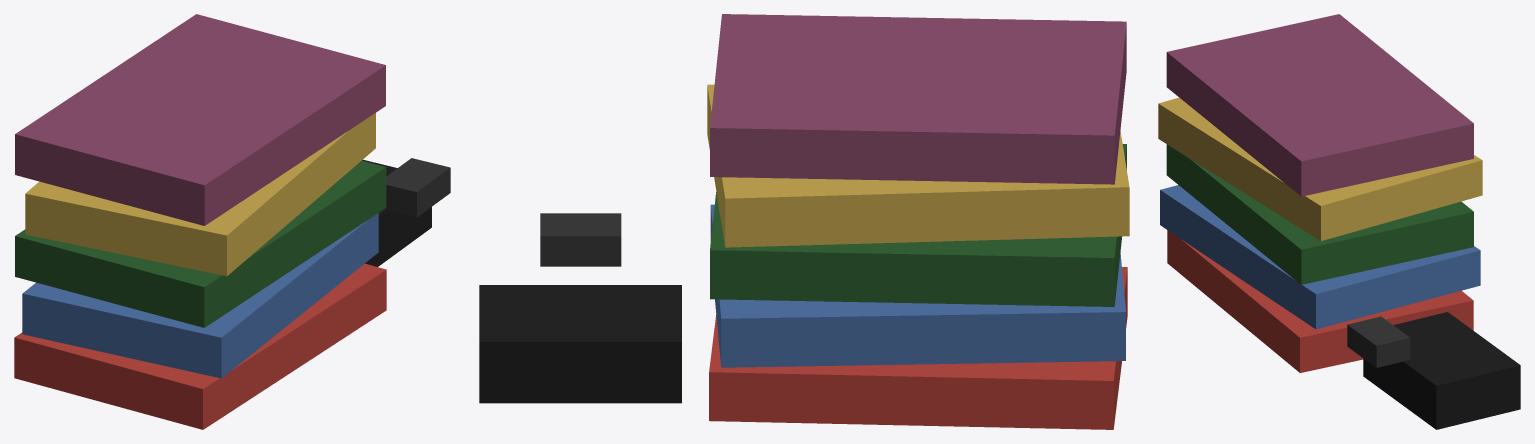
Rendered from books.glb.
3 views of the same model, side by side, from view 1: azimuth 30°, elevation 25°; view 2: azimuth 150°, elevation 25°; view 3: azimuth 270°, elevation 25° (orthographic). The views are drawn at different scales.
Size of the model in its own units: 0.9735 by 0.49 by 0.7448.
